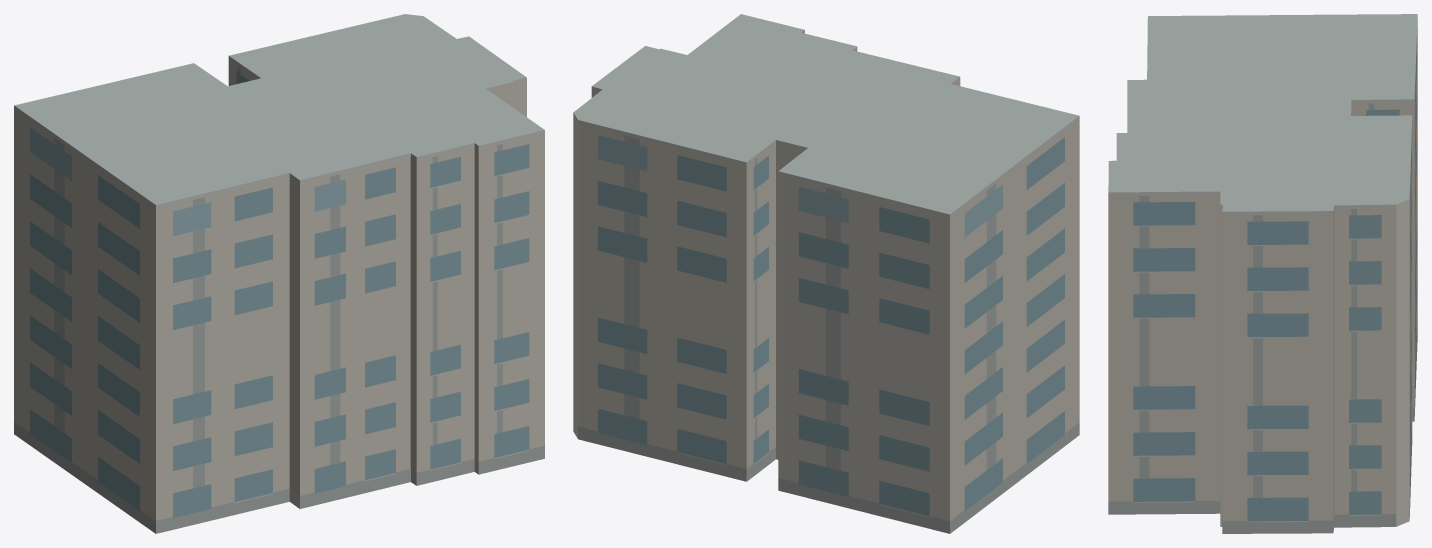
Rendered from survey-upis-32989265.glb.
The picture shows the model from 3 angles, left to right: view 1: azimuth 30°, elevation 25°; view 2: azimuth 150°, elevation 25°; view 3: azimuth 270°, elevation 25°; orthographic projection. The views are drawn at different scales.
Visible parts, largest first — view 1: survey-upis-32989265.tmp; view 2: survey-upis-32989265.tmp; view 3: survey-upis-32989265.tmp.
Part boxes in pixels (x1,y1,x2,y2): survey-upis-32989265.tmp: [14, 14, 544, 533]; survey-upis-32989265.tmp: [573, 14, 1079, 533]; survey-upis-32989265.tmp: [1108, 14, 1417, 533].
Size of the model in its own units: 27.77 by 21.1 by 18.36.
